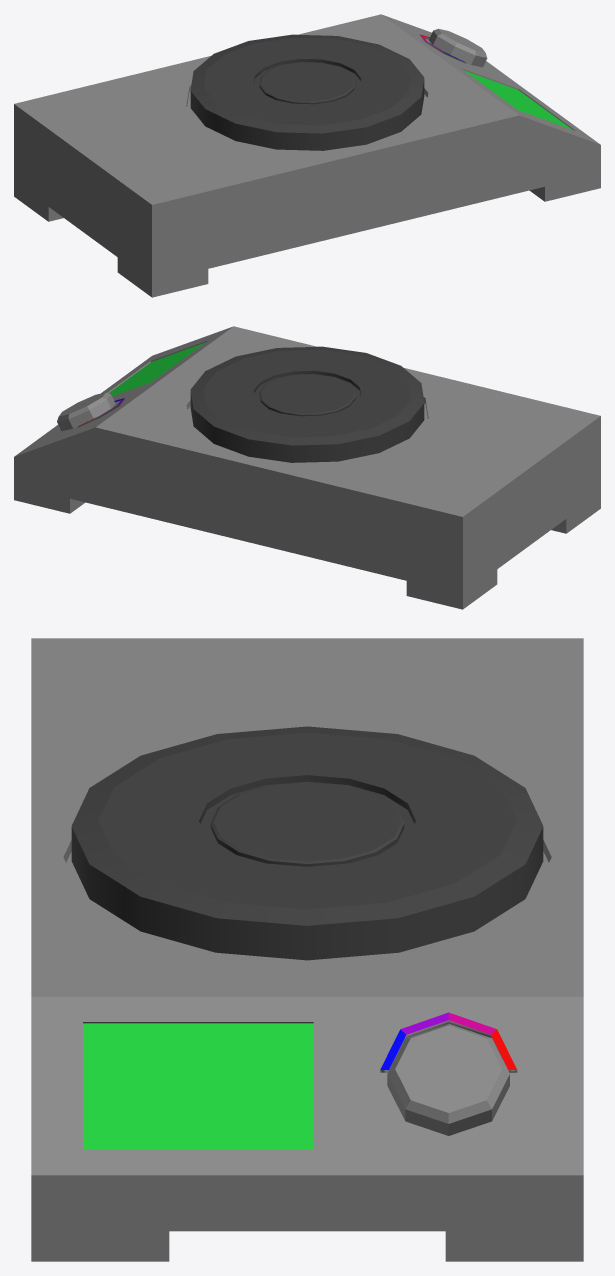
Rendered from hob.fbx.
3 views of the same model, one above another, from view 1: azimuth 30°, elevation 25°; view 2: azimuth 150°, elevation 25°; view 3: azimuth 270°, elevation 25° (orthographic). The views are drawn at different scales.
Parts seen in each view (by area): view 1: Cube, Circle, Cube.002, Cube.004; view 2: Cube, Circle, Cube.002, Cube.004; view 3: Cube, Circle, Cube.004, Cube.002, Circle.002.
Boxes of the visible parts, x1,y1,x2,y2 form: Cube: (14, 14, 600, 297); Circle: (190, 34, 424, 150); Cube.002: (429, 28, 487, 67); Cube.004: (464, 70, 571, 129); Cube: (14, 326, 600, 609); Circle: (190, 346, 424, 462); Cube.002: (57, 392, 115, 431); Cube.004: (109, 342, 205, 396); Cube: (31, 638, 583, 1261); Circle: (71, 726, 543, 960); Cube.004: (83, 1023, 313, 1149); Cube.002: (387, 1023, 509, 1135); Circle.002: (380, 1012, 517, 1072).
Size of the model in its own units: 200 by 47.19 by 107.
